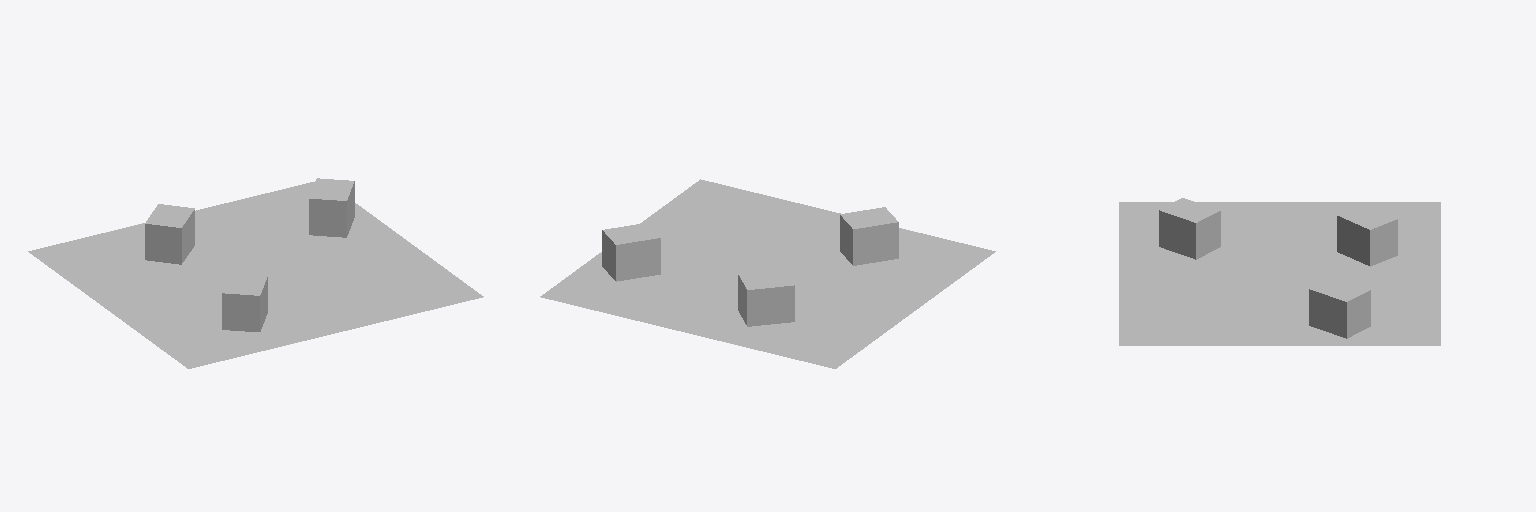
File: planeWithObstacles.obj
3 views of the same model, side by side, from view 1: azimuth 30°, elevation 25°; view 2: azimuth 150°, elevation 25°; view 3: azimuth 270°, elevation 25° (orthographic).
Visible parts, largest first — view 1: Plane; view 2: Plane; view 3: Plane.
Boxes of the visible parts, box(x1,y1,x2,y2) form: Plane: box(28, 178, 483, 368); Plane: box(540, 179, 995, 368); Plane: box(1119, 198, 1440, 345).
Bounding box in the file's own units: 17.84 × 2.11 × 16.81.